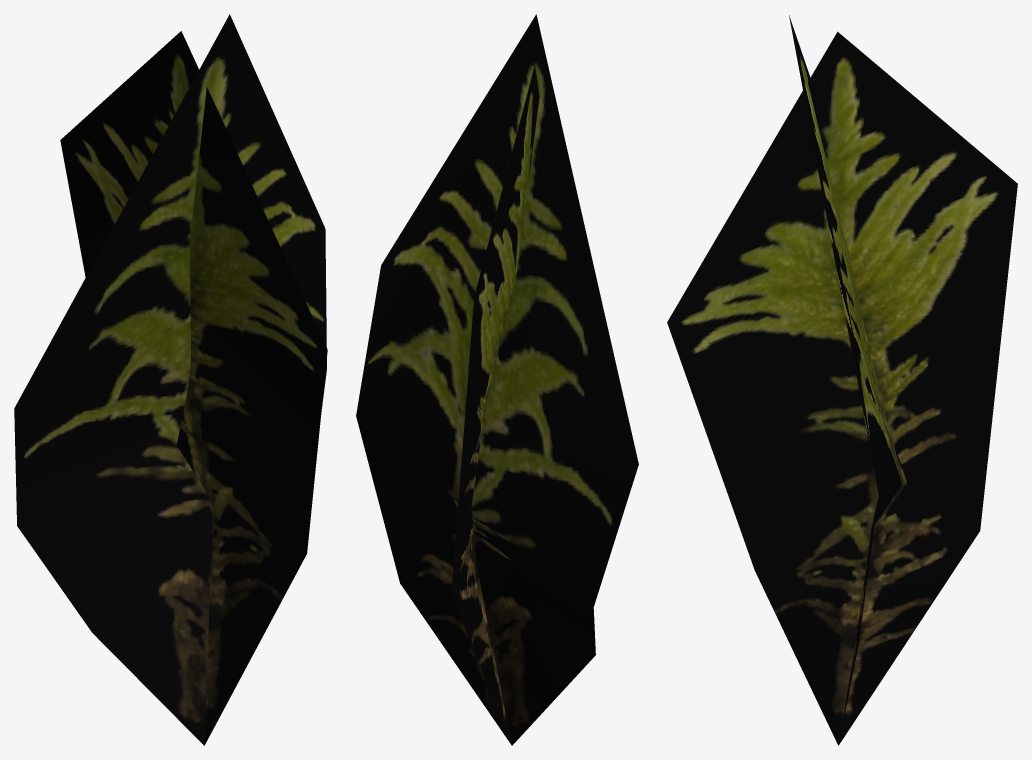
Rendered from moss_01_d.glb.
The picture shows the model from 3 angles, left to right: view 1: azimuth 30°, elevation 25°; view 2: azimuth 150°, elevation 25°; view 3: azimuth 270°, elevation 25°; orthographic projection. The views are drawn at different scales.
Visible parts, largest first — view 1: moss_01_f_LOD0; view 2: moss_01_f_LOD0; view 3: moss_01_f_LOD0.
Part boxes in pixels (<box>): moss_01_f_LOD0: <box>14,14,327,745</box>; moss_01_f_LOD0: <box>356,14,638,745</box>; moss_01_f_LOD0: <box>667,15,1017,745</box>.
Bounding box in the file's own units: 0.0128 × 0.0301 × 0.0131.
Materials: 1 (1 with a texture image).
